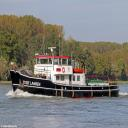tugboat: (10, 29, 122, 102)
